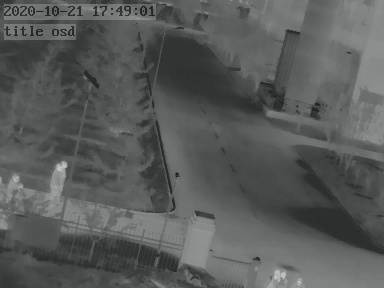person: (49, 159, 67, 203)
